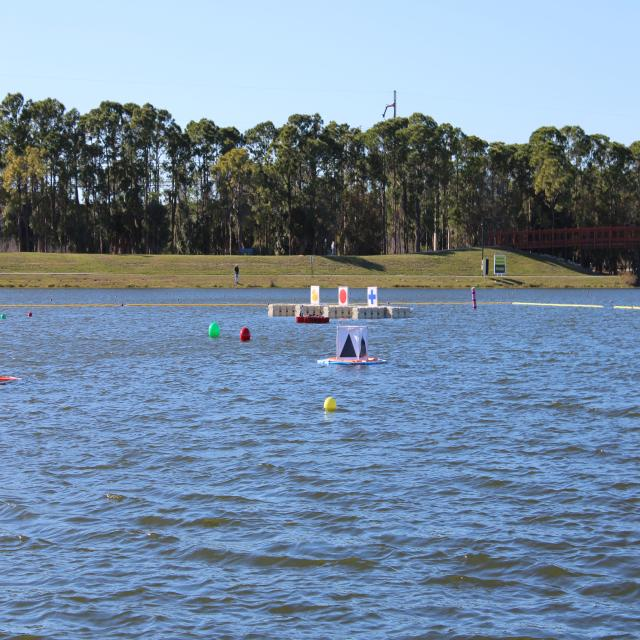blue-cross: (367, 283, 377, 307)
green-buoy: (210, 324, 220, 341), (1, 314, 7, 320)
red-buoy: (241, 326, 251, 342)
red-dot: (337, 285, 349, 307)
yellow-buoy: (326, 398, 339, 414)
yellow-duck: (310, 287, 319, 304)
